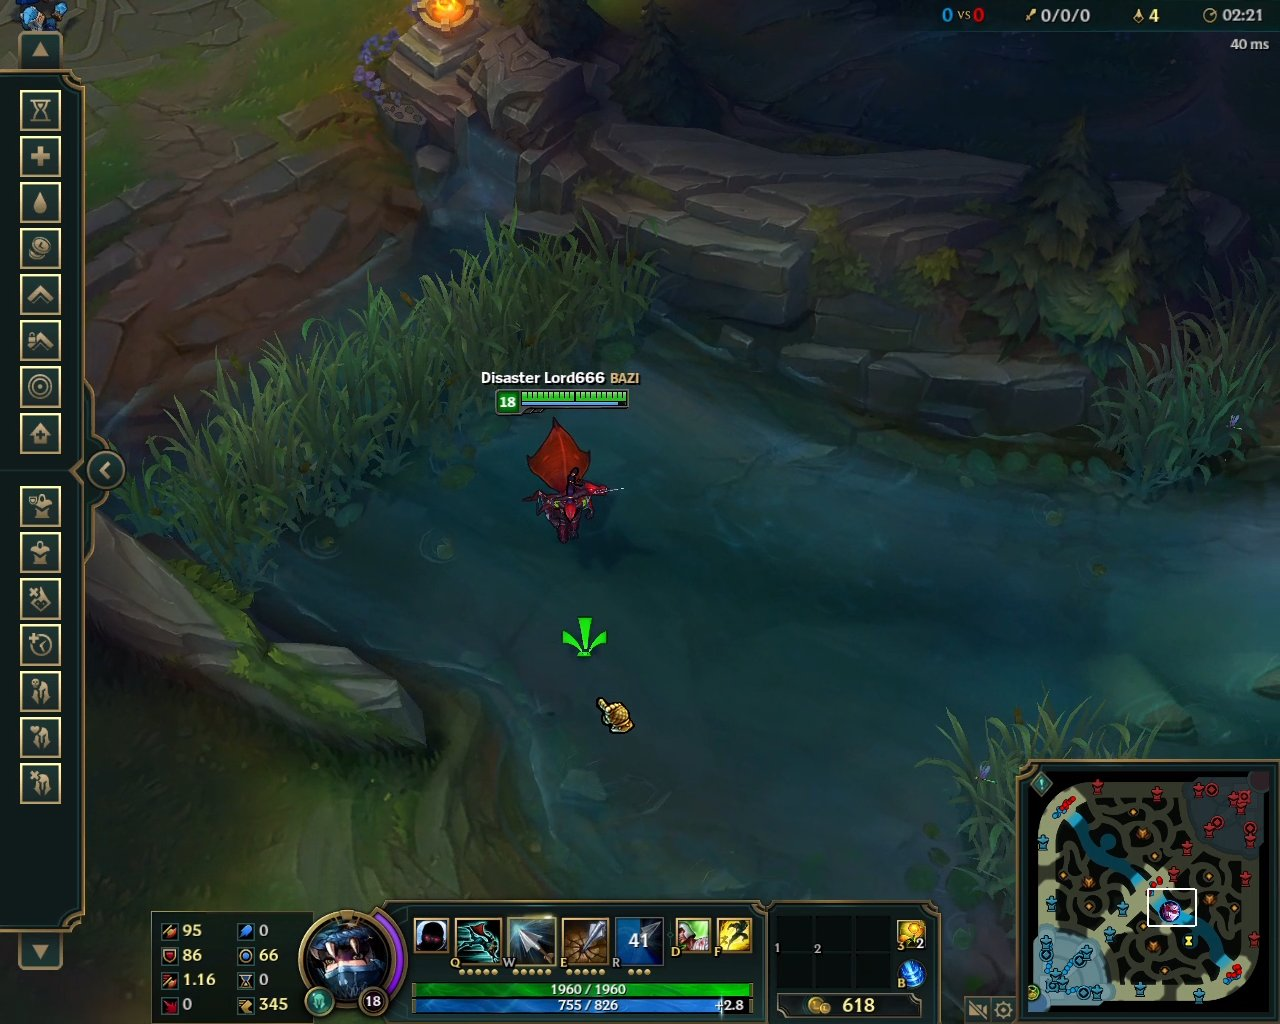Vayne: (518, 411, 627, 551)
